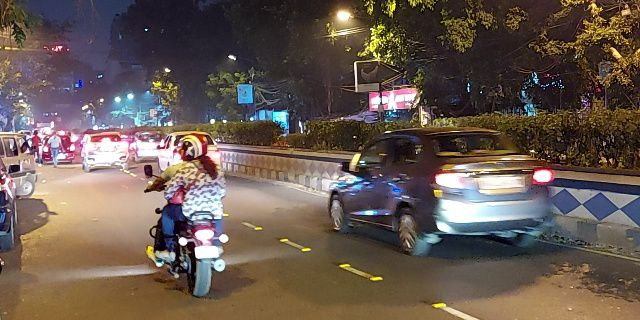Car: (355, 129, 555, 260)
Motorbike: (147, 128, 236, 297)
